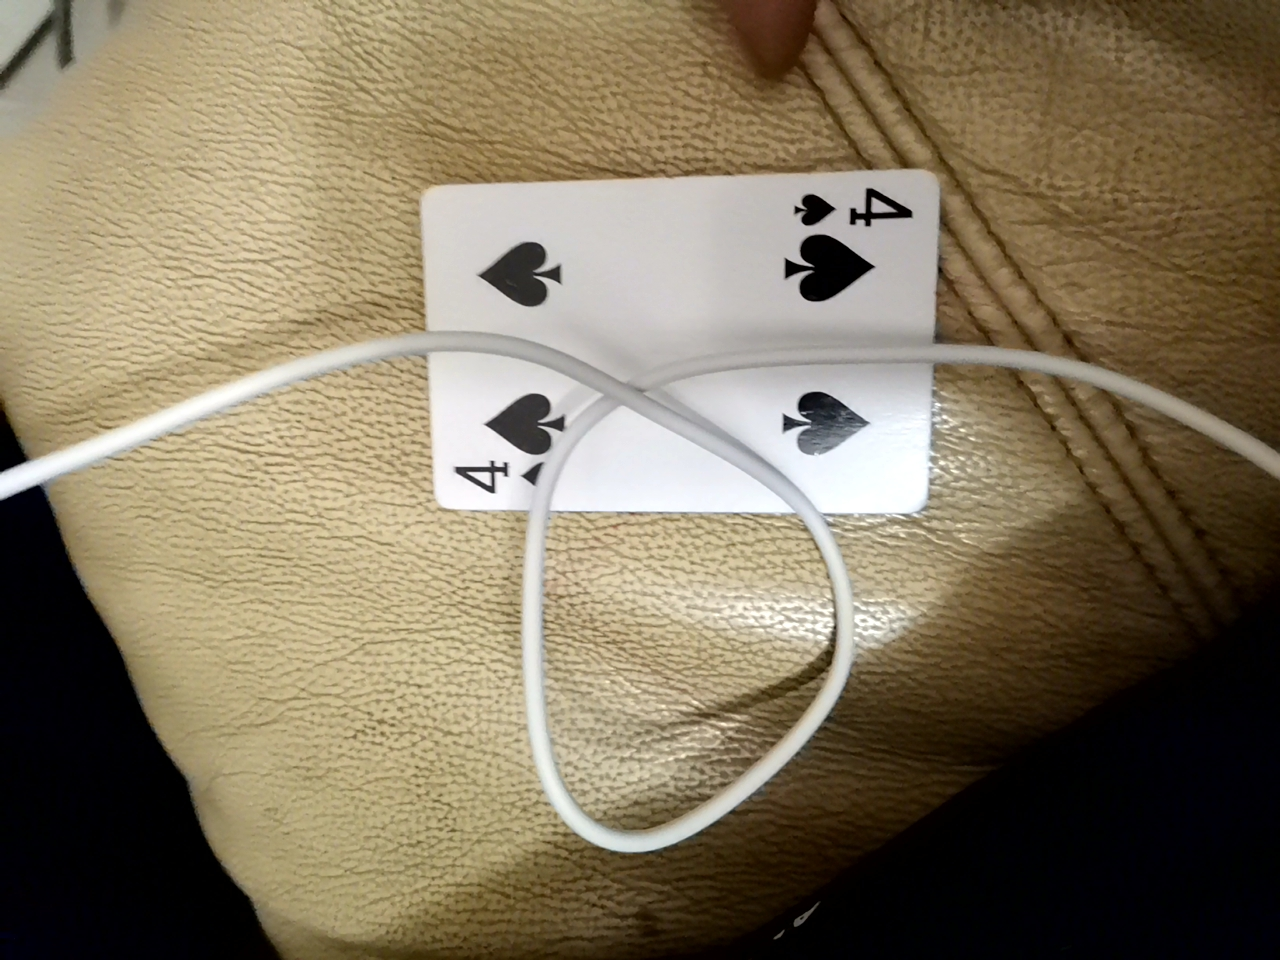ht 4: (432, 181, 929, 527)
